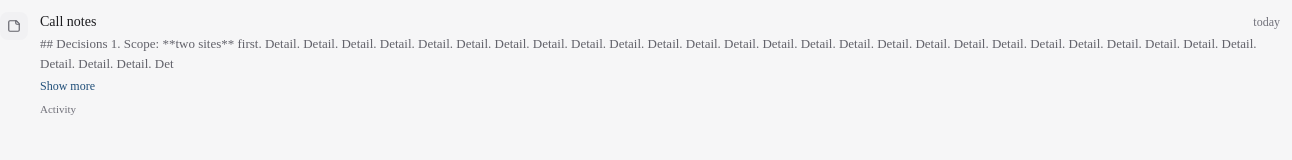
Test case: RecordTimeline › says so when the note can't be loaded
This screenshot has width=1292, height=160.
Click the button "Show more" at {"x": 68, "y": 86}, box [40,78,95,94]
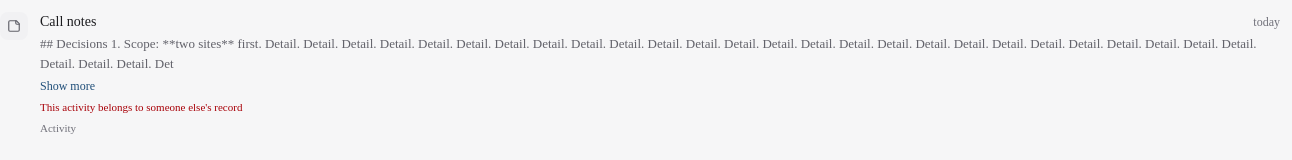
expect the text "This activity belongs to someone else's record" is shown: met, box [40,101,242,113]
